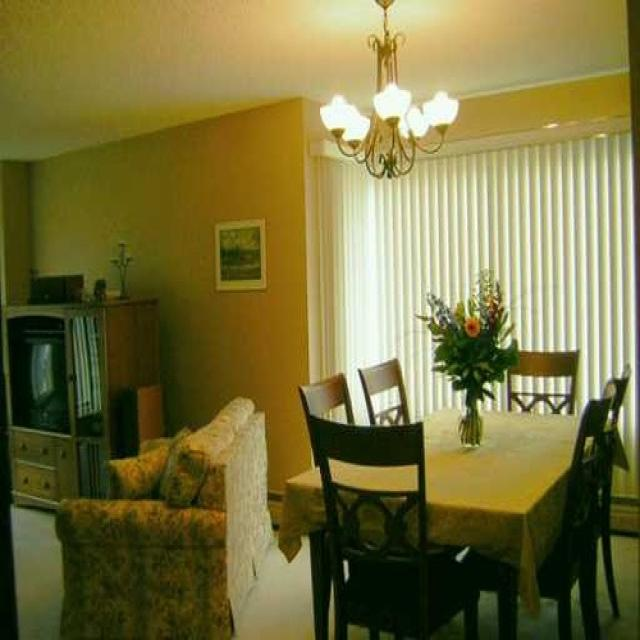chair: (304, 408, 482, 638), (526, 394, 613, 637), (599, 360, 632, 620), (300, 371, 358, 465), (506, 345, 580, 416), (358, 355, 412, 426)
sofa: (54, 393, 271, 638)
tvmonitor: (13, 327, 68, 434)
